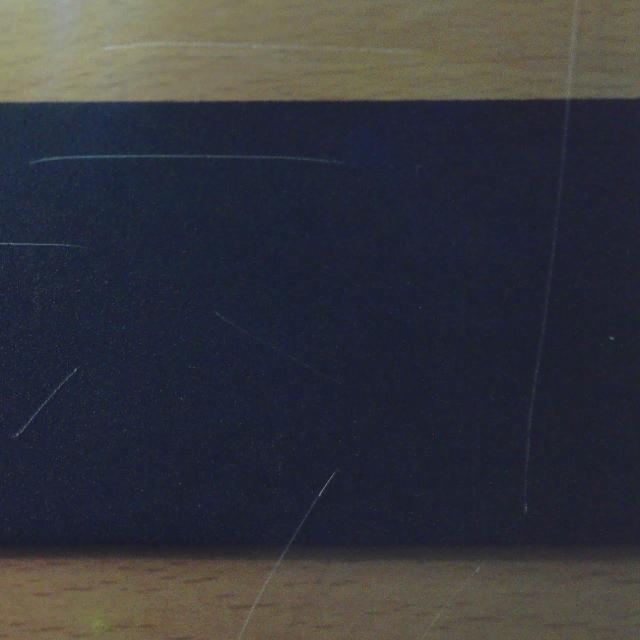defect: (519, 95, 572, 517), (213, 301, 358, 401), (26, 138, 350, 182), (9, 365, 84, 444), (285, 468, 342, 540), (0, 230, 92, 260)
